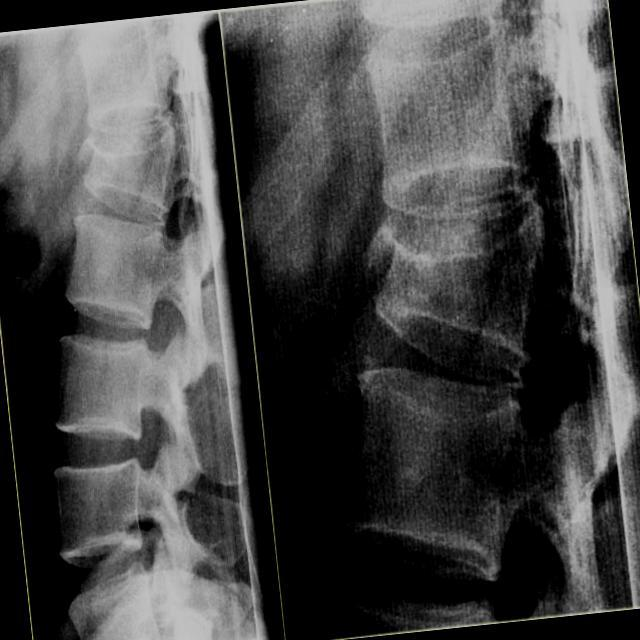Compression-Crush Fracutre: (358, 196, 549, 369)
